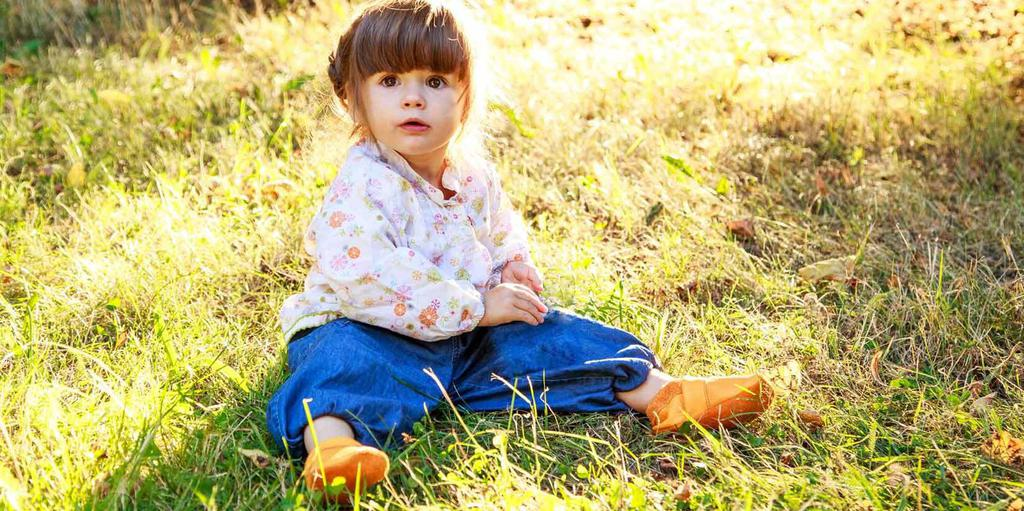child: (232, 2, 785, 501)
